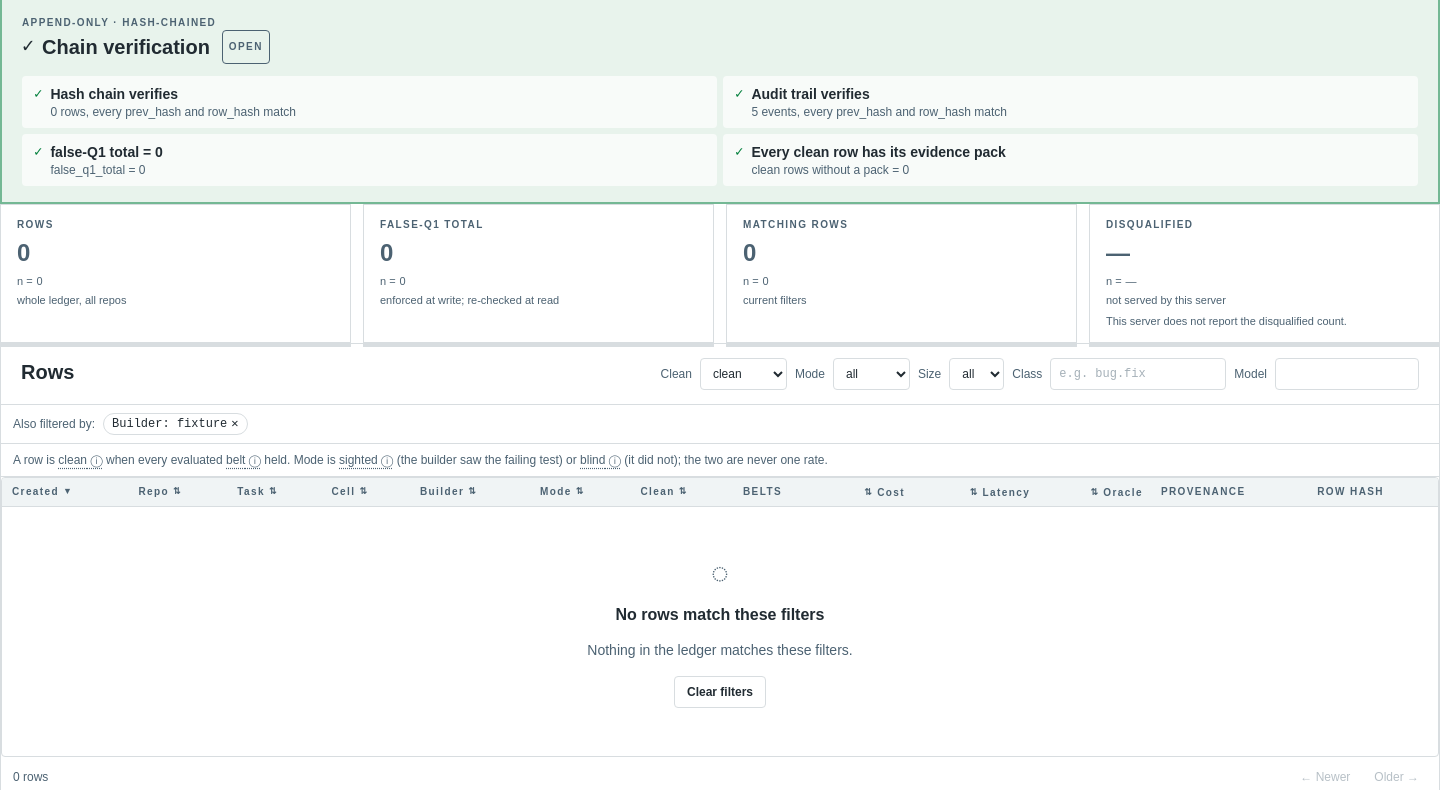
LedgerPage › a filtered empty ledger offers Clear filters, which resets the URL
(page scrolled)
Expected: the element with test id "empty-state" shows "No rows match these filters", x1=616 y1=606 x2=824 y2=623
Expected: the element with test id "empty-state" does not show "The ledger is empty", x1=587 y1=556 x2=853 y2=708
Click the button "Clear filters": (720,692) x1=674 y1=676 x2=766 y2=708
(page scrolled)
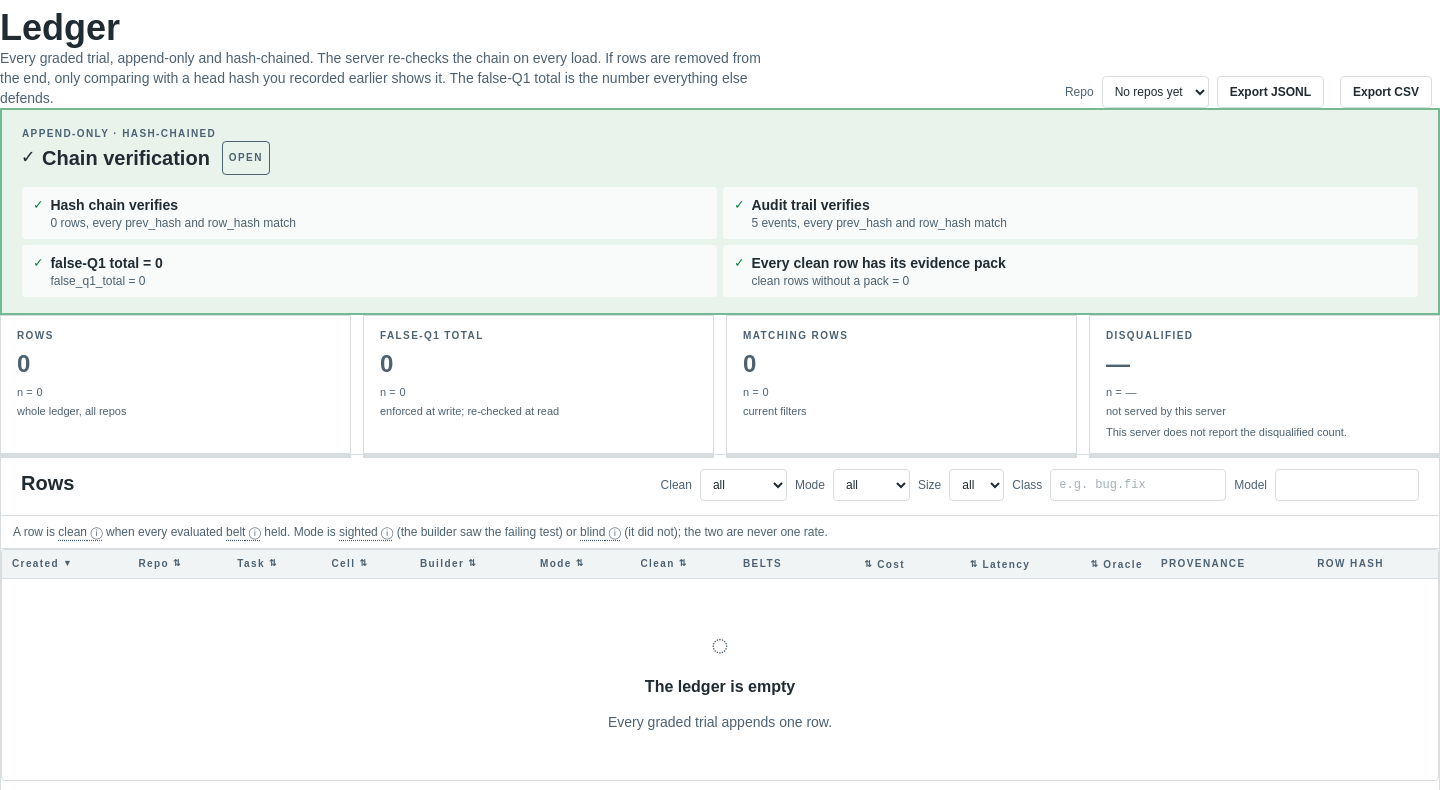
Now the element with test id "ledger-linked-filters" is gone
Now the element with test id "empty-state" shows "The ledger is empty", box x1=645 y1=678 x2=795 y2=695
Now the button "Clear filters" is gone
